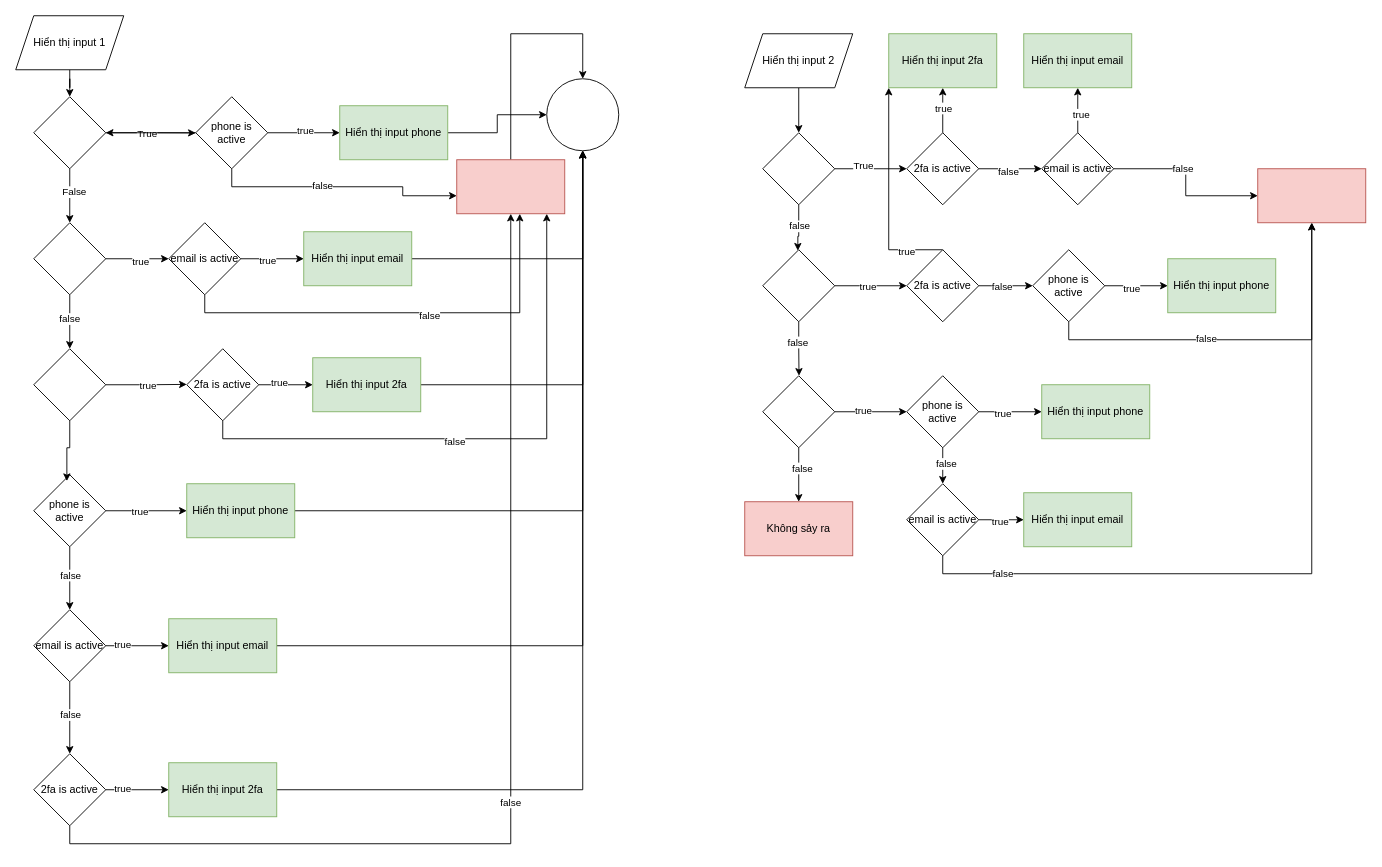
Image size: 1382x867. Some labels were removed from this diagram. The shapes that lost their labels are listed below. From the top down, each one's centre as x and y in pixels, then its label:
At pixel 69 132: "phone is prioritize".
At pixel 582 114: "End".
At pixel 510 186: "Display an eror text".
At pixel 798 168: "input 1 is phone".
At pixel 1311 195: "Hiển thị error message, kêu người dùng active verify methods".
At pixel 69 258: "email is prioritize".
At pixel 798 285: "input 1 is email".
At pixel 69 384: "2fa is prioritize".
At pixel 798 411: "input 1 is 2fa".
